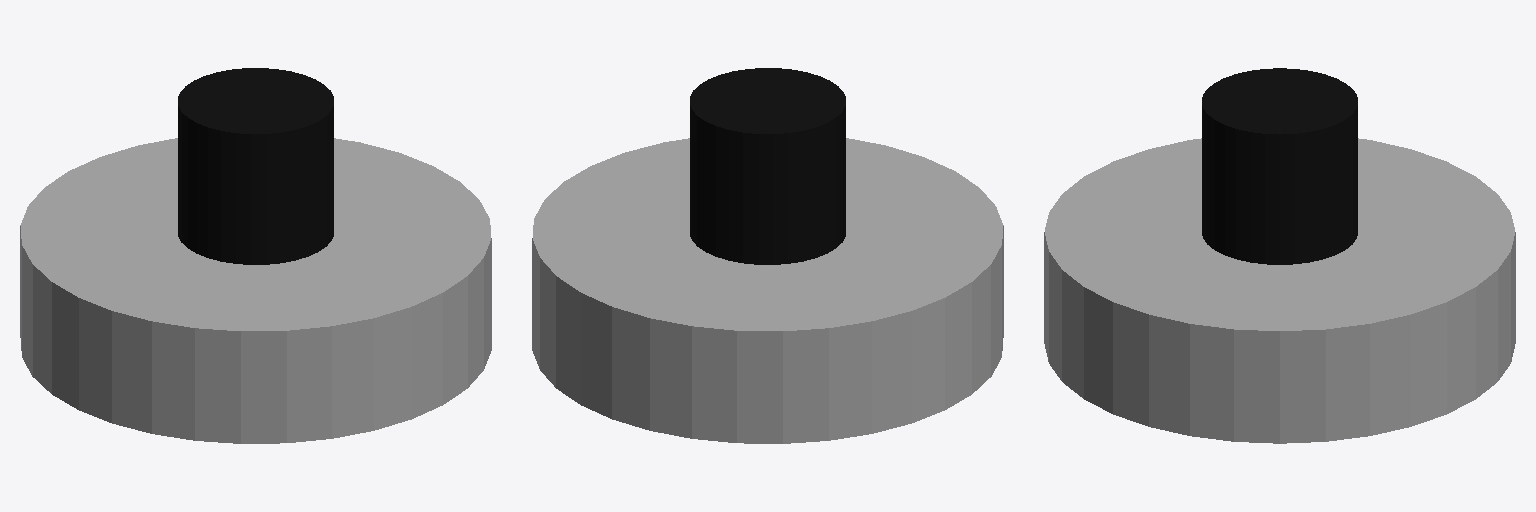
The robot description file, URDF, robot "evolved_robot":
<?xml version="1.0"?>
<robot name="evolved_robot">
  <material name="metal">
    <color rgba="0.7 0.7 0.7 1.0"/>
  </material>
  <material name="plastic">
    <color rgba="0.3 0.3 0.9 1.0"/>
  </material>
  <material name="rubber">
    <color rgba="0.1 0.1 0.1 1.0"/>
  </material>
  <material name="red">
    <color rgba="1.0 0.0 0.0 1.0"/>
  </material>
  <material name="wheel_material">
    <color rgba="0.2 0.2 0.2 1.0"/>
  </material>
  <link name="base_link">
    <visual>
      <geometry><cylinder radius="0.2093413448606743" length="0.11022022719318435"/></geometry>
      <material name="metal"/>
    </visual>
    <collision>
      <geometry><cylinder radius="0.2093413448606743" length="0.11022022719318435"/></geometry>
    </collision>
    <inertial>
      <mass value="5.0"/>
      <inertia ixx="0.1196832454056204" ixy="0" ixz="0" 
               iyy="0.1196832454056204" iyz="0" 
               izz="0.21911899334037882"/>
    </inertial>
  </link>
  <link name="link1">
    <visual>
      <geometry>
        <cylinder radius="0.04978469807219235" length="0.07401096701120638"/>
      </geometry>
      <material name="wheel_material"/>
    </visual>
    <collision>
      <geometry>
        <cylinder radius="0.04978469807219235" length="0.07401096701120638"/>
      </geometry>
    </collision>
    <inertial>
      <mass value="1.0"/>
      <inertia ixx="0.0010760976436959948" ixy="0" ixz="0" 
               iyy="0.0010760976436959948" iyz="0" 
               izz="0.0012392580810696764"/>
    </inertial>
  </link>
  <joint name="joint1" type="continuous">
    <parent link="base_link"/>
    <child link="link1"/>
    <origin xyz="0 0 0" rpy="1.5708 0 0"/>
    <axis xyz="0 1 0"/>
    <dynamics damping="0.14939620959536964" friction="0.1"/>
  </joint>
  <link name="link2">
    <visual>
      <geometry><sphere radius="0.02696266330325602"/></geometry>
      <material name="rubber"/>
    </visual>
    <collision>
      <geometry><sphere radius="0.02696266330325602"/></geometry>
    </collision>
    <inertial>
      <mass value="0.5"/>
      <inertia ixx="0.0002907940849618995" ixy="0" ixz="0" 
               iyy="0.0002907940849618995" iyz="0" 
               izz="0.0002907940849618995"/>
    </inertial>
  </link>
  <joint name="joint2" type="revolute">
    <parent link="base_link"/>
    <child link="link2"/>
    <origin xyz="0 0 0.055110113596592174" rpy="0 0 0"/>
    <axis xyz="-0.7545267094459136 0.6562693385590416 0.0"/>
    <dynamics damping="0.2146818546384729" friction="0.1"/>
    <limit lower="-0.7706767376466127" upper="1.463842672214915" effort="100" velocity="100"/>
  </joint>
  <link name="link3">
    <visual>
      <geometry><cylinder radius="0.06975386762857602" length="0.15594249872497107"/></geometry>
      <material name="rubber"/>
    </visual>
    <collision>
      <geometry><cylinder radius="0.06975386762857602" length="0.15594249872497107"/></geometry>
    </collision>
    <inertial>
      <mass value="0.5"/>
      <inertia ixx="0.0032429057546685264" ixy="0" ixz="0" 
               iyy="0.0032429057546685264" iyz="0" 
               izz="0.002432801024572453"/>
    </inertial>
  </link>
  <joint name="joint3" type="revolute">
    <parent link="base_link"/>
    <child link="link3"/>
    <origin xyz="0 0 0.10511011359659217" rpy="0 0 0"/>
    <axis xyz="-0.03160115722213499 0.7246690232864017 0.6883721185168343"/>
    <dynamics damping="0.8030647058584857" friction="0.1"/>
    <limit lower="-1.032985044499204" upper="0.24972828961249283" effort="100" velocity="100"/>
  </joint>
</robot>

--- Facts derived from the render (not from the file) ---
3 views of the same robot in one strip: view 1: azimuth 30°, elevation 25°; view 2: azimuth 150°, elevation 25°; view 3: azimuth 270°, elevation 25° (orthographic).
Robot: evolved_robot — 4 links, 3 joints (2 revolute, 1 continuous); root link base_link; default pose: all joints at 0.
Links seen in each view (by area): view 1: base_link, link3; view 2: base_link, link3; view 3: base_link, link3.
Boxes of the visible links, bbox=[...] form: base_link: bbox=[20, 138, 491, 443]; link3: bbox=[178, 68, 333, 264]; base_link: bbox=[532, 138, 1003, 443]; link3: bbox=[690, 68, 845, 264]; base_link: bbox=[1044, 138, 1515, 443]; link3: bbox=[1202, 68, 1357, 264].
Bounding box of the posed robot: 0.4187 × 0.4187 × 0.2382 m (x, y, z).
Geometry: primitives only (box / cylinder / sphere), no mesh files.